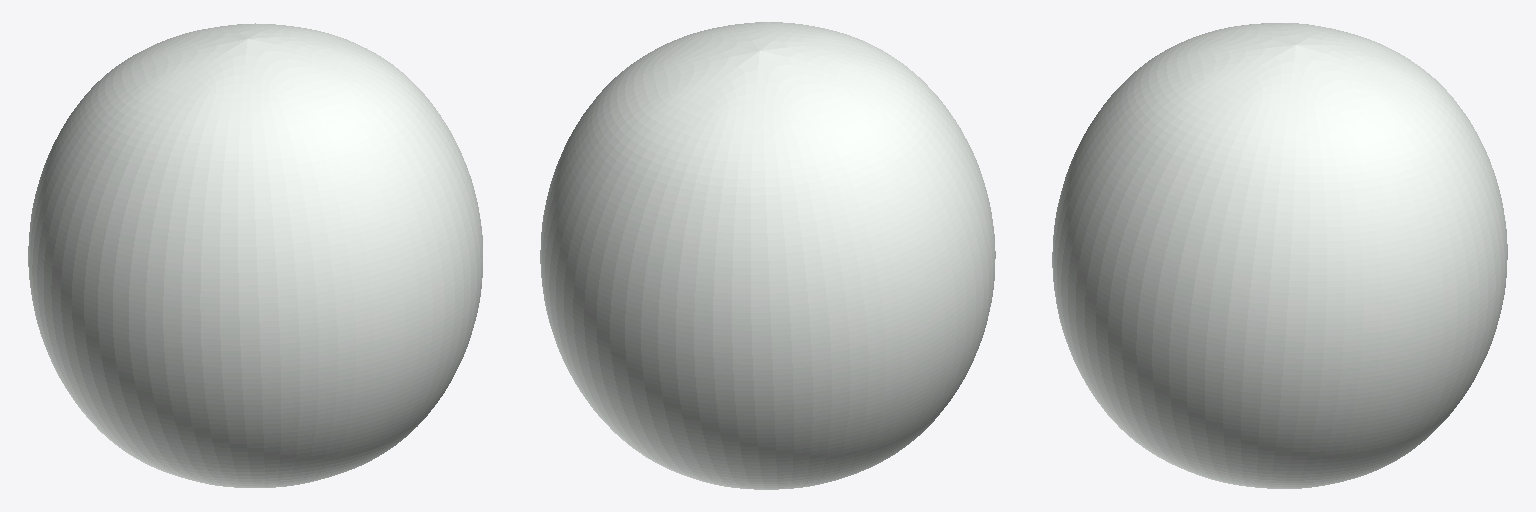
The model's file is marble_6.obj.
3 views of the same model, side by side, from view 1: azimuth 30°, elevation 25°; view 2: azimuth 150°, elevation 25°; view 3: azimuth 270°, elevation 25° (orthographic).
Visible parts, largest first — view 1: s.0058; view 2: s.0058; view 3: s.0058.
Boxes of the visible parts, box(x1,y1,x2,y2) form: s.0058: box(28, 23, 482, 487); s.0058: box(540, 22, 995, 489); s.0058: box(1052, 23, 1507, 488).
Bounding box in the file's own units: 96255 × 98459 × 96294.